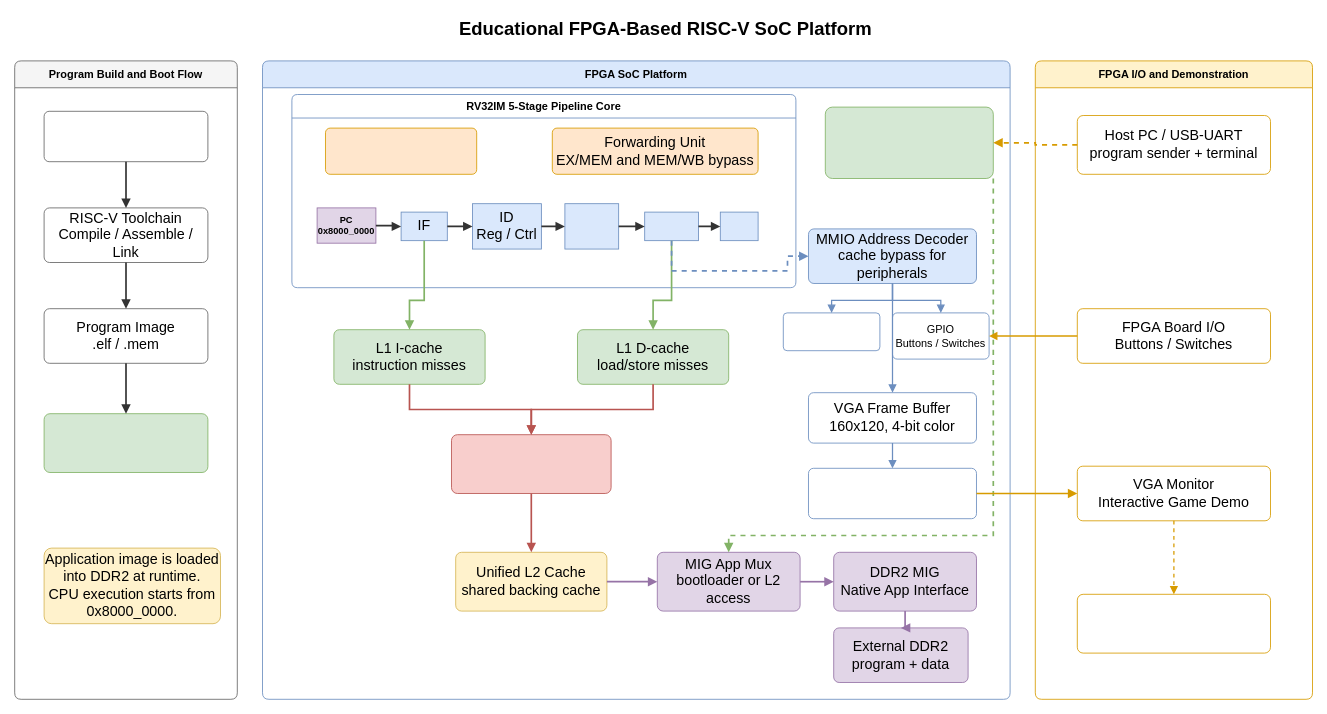
This 1327x714 diagram has some shape labels left out. The shapes that lost their labels are listed below. From the top down, each one's centre as x and y in pixels, then its label:
At (125,136): "Game Source Code C / Assembly".
At (401,150): "Hazard Unit load-use stall / flush".
At (908,142): "UART Bootloader writes program image to DDR2 then releases CPU".
At (591,226): "EX ALU".
At (671,226): "MEM".
At (738,226): "WB".
At (831,331): "UART MMIO".
At (125,442): "Send Image over USB-UART to FPGA Bootloader".
At (531,464): "I/D Arbitration selects one L1 miss request".
At (892,493): "VGA Timing Controller 640x480 output".
At (1173,623): "Educational Observation pipeline / cache / I/O behavior".
